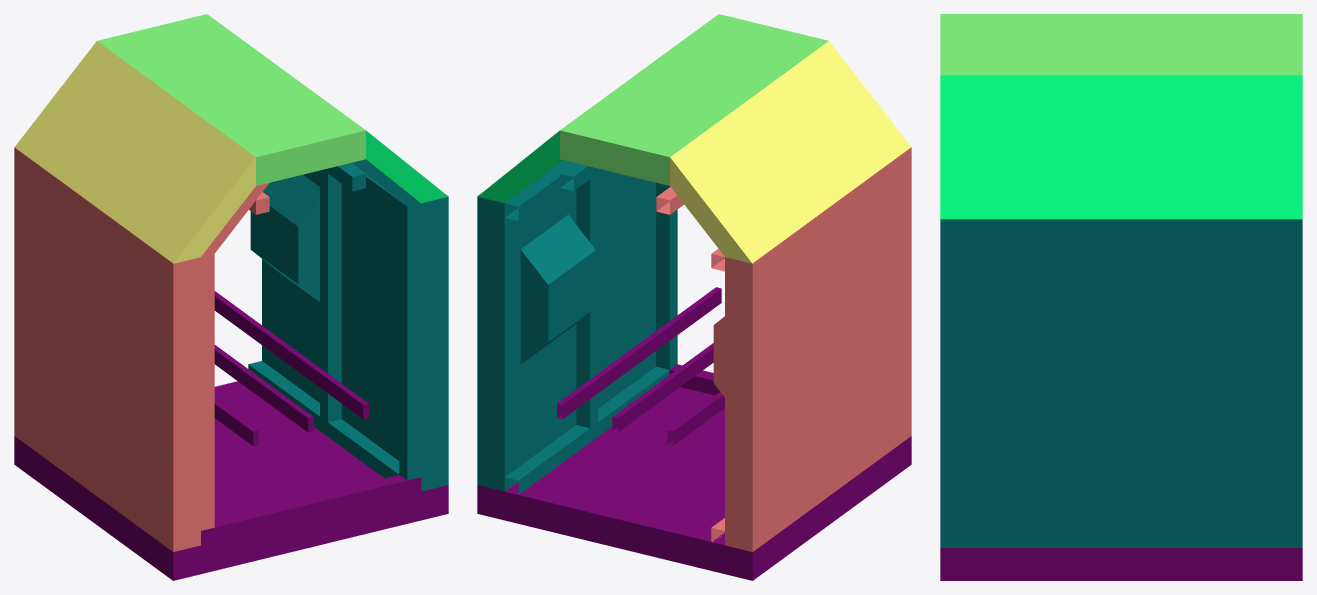
Rendered from Mesh_Passage_A.fbx.
3 renders of one model, left to right at view 1: azimuth 30°, elevation 25°; view 2: azimuth 150°, elevation 25°; view 3: azimuth 270°, elevation 25°, orthographic. The views are drawn at different scales.
Parts seen in each view (by area): view 1: Passage_A.005, Passage_A.001, Passage_A.004, Passage_A.006, Passage_A.003, Passage_A.008, Passage_A.020, Passage_A.010, Passage_A.007, Passage_A.011, Passage_A.009, Passage_A_Rails (+7 smaller); view 2: Passage_A.005, Passage_A.004, Passage_A.006, Passage_A.001, Passage_A.003, Passage_A.020, Passage_A.009, Passage_A.010, Passage_A_Rails, Passage_A.008, Passage_A.002, Passage_A_Rails.002 (+5 smaller); view 3: Passage_A.004, Passage_A.002, Passage_A.003, Passage_A.006.
Boxes of the visible parts, bbox=[...] form: Passage_A.005: bbox=[14, 147, 200, 551]; Passage_A.001: bbox=[15, 41, 255, 263]; Passage_A.004: bbox=[262, 170, 448, 491]; Passage_A.006: bbox=[14, 381, 448, 580]; Passage_A.003: bbox=[97, 14, 365, 185]; Passage_A.008: bbox=[399, 201, 421, 480]; Passage_A.020: bbox=[250, 174, 319, 301]; Passage_A.010: bbox=[320, 170, 341, 422]; Passage_A.007: bbox=[201, 475, 421, 545]; Passage_A.011: bbox=[201, 254, 214, 530]; Passage_A.009: bbox=[248, 361, 399, 478]; Passage_A_Rails: bbox=[214, 291, 368, 419]; Passage_A.005: bbox=[725, 147, 911, 551]; Passage_A.004: bbox=[477, 170, 655, 491]; Passage_A.006: bbox=[477, 387, 911, 580]; Passage_A.001: bbox=[670, 41, 910, 263]; Passage_A.003: bbox=[560, 14, 828, 185]; Passage_A.020: bbox=[520, 214, 595, 364]; Passage_A.009: bbox=[505, 367, 669, 494]; Passage_A.010: bbox=[576, 174, 597, 427]; Passage_A_Rails: bbox=[557, 287, 721, 419]; Passage_A.008: bbox=[656, 182, 677, 369]; Passage_A.002: bbox=[477, 130, 563, 203]; Passage_A_Rails.002: bbox=[612, 343, 713, 432]; Passage_A.004: bbox=[940, 219, 1302, 547]; Passage_A.002: bbox=[940, 75, 1302, 219]; Passage_A.003: bbox=[940, 14, 1302, 75]; Passage_A.006: bbox=[940, 548, 1302, 580].
Size of the model in its own units: 1000 by 1400 by 1000.
